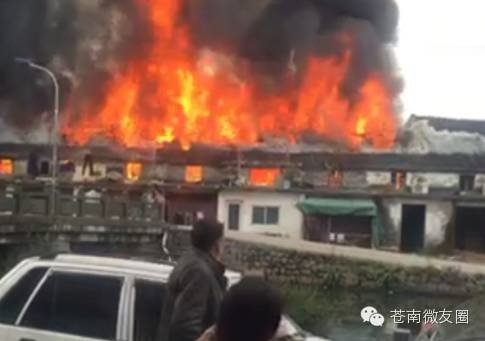fire: (74, 6, 393, 156)
